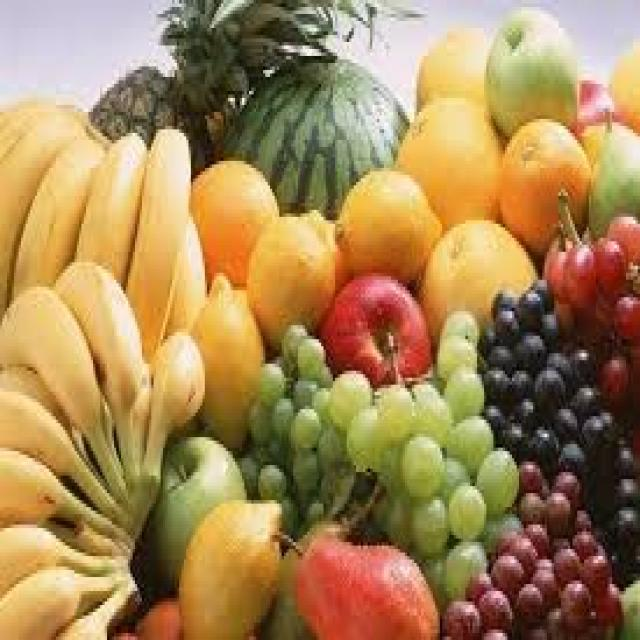organic waste: (219, 52, 407, 214), (0, 283, 130, 514), (156, 0, 421, 105), (54, 255, 144, 521), (0, 364, 135, 528), (268, 528, 438, 637), (142, 426, 247, 594), (0, 101, 84, 308), (414, 214, 538, 354), (123, 129, 191, 357), (7, 133, 102, 294), (84, 63, 214, 178), (393, 94, 505, 224), (179, 496, 279, 636), (137, 328, 205, 524), (184, 269, 261, 441), (244, 206, 333, 354), (319, 269, 430, 381), (333, 164, 440, 280), (260, 493, 346, 637), (484, 3, 573, 140), (498, 115, 587, 252), (70, 126, 144, 283), (186, 157, 275, 287), (0, 447, 130, 535), (0, 563, 130, 636), (0, 518, 126, 577), (414, 24, 486, 105), (586, 119, 638, 231), (160, 210, 202, 329), (54, 577, 135, 637), (442, 409, 491, 476), (474, 444, 516, 518), (607, 39, 638, 130), (573, 77, 619, 136), (405, 493, 447, 556), (438, 538, 484, 594), (342, 406, 384, 465), (370, 384, 414, 440), (409, 381, 452, 437), (447, 479, 486, 539), (328, 367, 370, 420), (440, 364, 482, 416), (607, 507, 638, 577), (403, 434, 442, 489), (589, 234, 624, 294), (433, 328, 475, 378), (494, 528, 536, 574), (561, 241, 593, 301), (578, 413, 614, 465), (591, 577, 622, 637), (519, 426, 556, 476), (540, 231, 568, 297), (479, 507, 519, 553), (556, 434, 591, 486), (377, 490, 407, 549), (138, 594, 180, 636), (486, 546, 524, 591), (577, 542, 608, 595), (442, 591, 480, 633), (556, 574, 589, 622), (374, 437, 402, 493), (475, 584, 512, 626), (605, 213, 638, 259), (594, 356, 630, 398), (288, 402, 319, 448), (479, 364, 512, 406), (533, 367, 563, 413), (540, 486, 570, 532), (616, 574, 638, 636), (435, 308, 475, 342), (419, 553, 449, 598), (610, 290, 638, 332), (296, 336, 324, 378), (566, 384, 598, 420), (512, 329, 542, 367), (314, 426, 340, 468), (530, 556, 558, 595), (279, 322, 303, 367), (514, 287, 542, 325), (549, 469, 577, 507), (461, 567, 489, 605), (288, 448, 319, 482), (545, 342, 570, 384), (547, 542, 577, 577), (517, 580, 542, 622), (254, 462, 284, 496), (549, 402, 575, 441), (258, 360, 284, 399), (237, 451, 261, 493), (519, 518, 545, 556), (293, 486, 321, 521), (552, 297, 577, 336), (566, 346, 591, 385), (247, 402, 272, 441), (565, 525, 596, 556), (268, 395, 291, 434), (491, 308, 517, 342), (610, 476, 638, 507), (289, 374, 314, 406), (589, 297, 612, 329), (610, 444, 633, 476), (519, 486, 542, 518), (510, 364, 533, 395), (496, 416, 516, 451), (544, 602, 566, 633), (484, 343, 512, 367), (484, 406, 503, 440), (540, 311, 558, 346), (510, 395, 535, 420), (528, 273, 550, 301), (568, 504, 589, 532), (489, 287, 514, 308), (475, 322, 491, 353), (542, 532, 568, 549), (479, 622, 510, 636), (109, 619, 133, 637), (624, 339, 638, 367), (624, 420, 638, 448), (519, 622, 547, 636)
